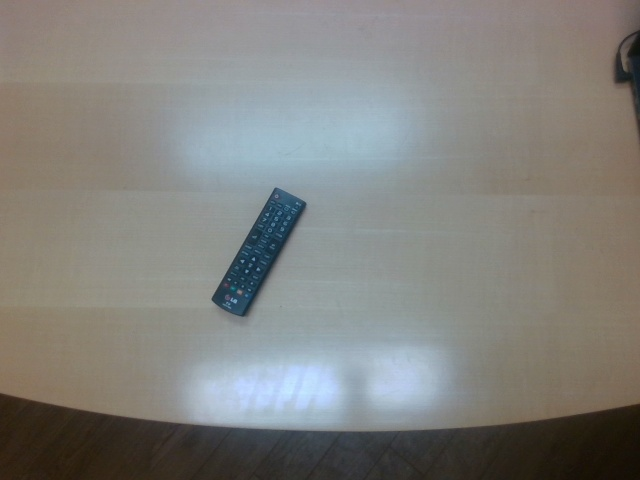remote: (210, 186, 307, 316)
